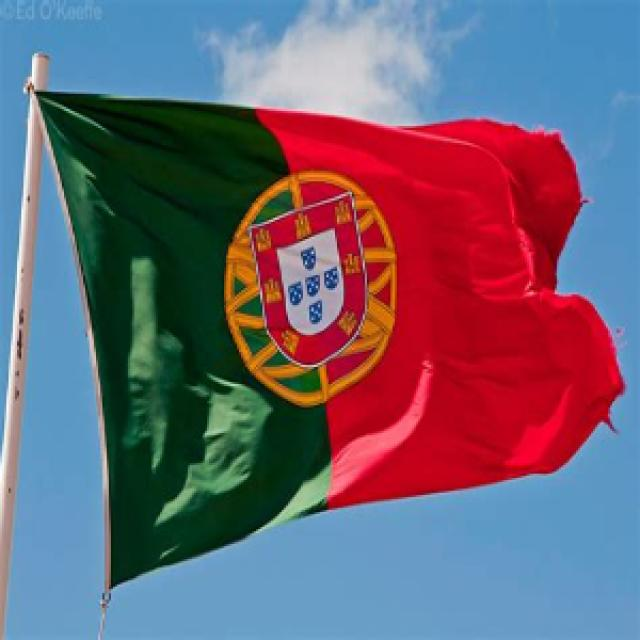portugal: (26, 54, 554, 532)
